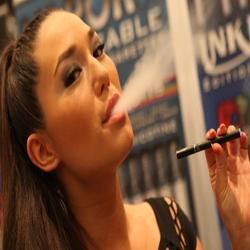smoking: (174, 122, 250, 225)
